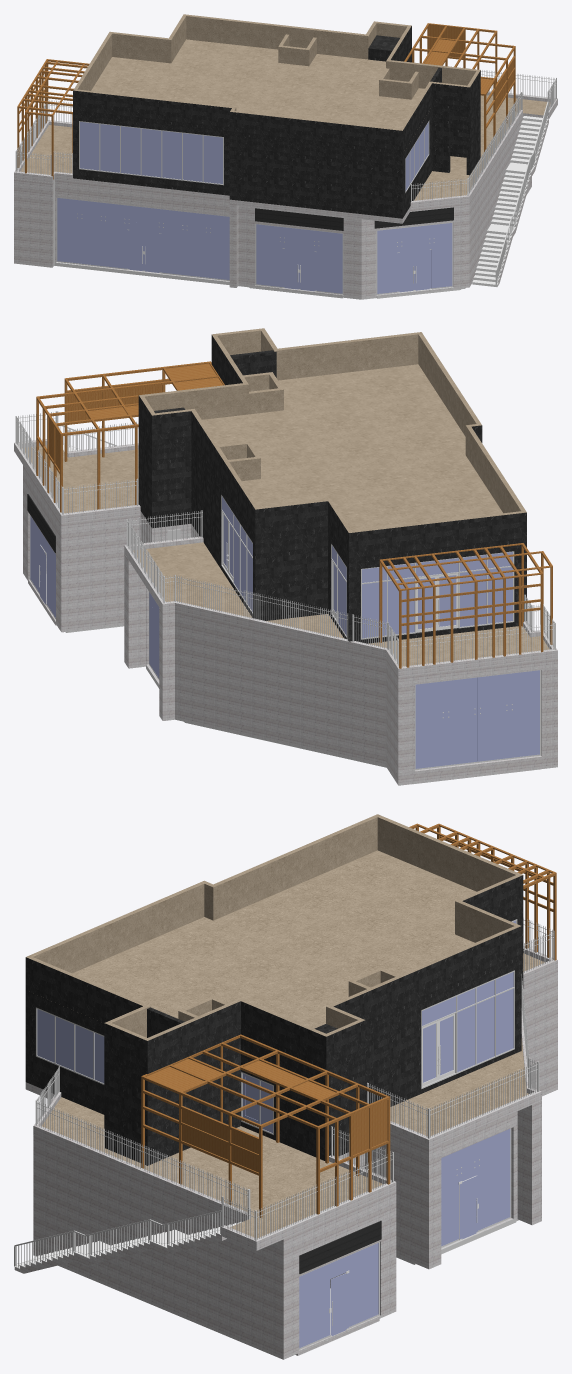
3 renders of one model, top to bottom at view 1: azimuth 30°, elevation 25°; view 2: azimuth 150°, elevation 25°; view 3: azimuth 270°, elevation 25°, orthographic. The views are drawn at different scales.
Visible parts, largest first — view 1: 21 2 [417679], Basic Wall Generic - 200mm Masonry [414677], 2 2 [347174], Basic Wall Generic - 200mm Masonry [433387], Basic Wall Generic - 200mm Masonry [433997], CAN-01 CAN-01 [347665], Basic Wall Generic - 200mm Masonry [433209], Basic Wall Generic - 200mm [384395], Basic Wall Generic - 200mm [376490], CAN1 CAN-01 [355957], Basic Wall Generic - 200mm Masonry [414536], Basic Wall Generic - 300mm [440573] (+63 smaller); view 2: 21 2 [417679], Basic Wall Generic - 300mm [375218], 2 2 [347174], CAN-01 CAN-01 [347665], CAN1 CAN-01 [355957], Basic Wall Generic - 300mm [375669], D.B D.B [377607], Basic Wall Generic - 200mm Masonry [434115], 22 2 [428422], Basic Wall Generic - 200mm Masonry [413980], Basic Wall Generic - 200mm Masonry [433543], D.B1 D.B [411193] (+41 smaller); view 3: 21 2 [417679], 2 2 [347174], CAN-01 CAN-01 [347665], D.B D.B [377607], Basic Wall Generic - 300mm [380016], Basic Wall Generic - 300mm [379828], Basic Wall Generic - 200mm Masonry [433997], Basic Wall Generic - 200mm Masonry [433209], Basic Wall Generic - 200mm Masonry [433387], 22 2 [428422], Basic Wall Generic - 300mm [377421], Basic Wall Generic - 300mm [394166] (+41 smaller).
Part boxes in pixels (box(x1,y1,x2,y2)): 21 2 [417679]: box(73, 39, 480, 157); Basic Wall Generic - 200mm Masonry [414677]: box(235, 139, 403, 218); 2 2 [347174]: box(14, 95, 557, 221); Basic Wall Generic - 200mm Masonry [433387]: box(233, 110, 399, 153); Basic Wall Generic - 200mm Masonry [433997]: box(183, 14, 365, 58); CAN-01 CAN-01 [347665]: box(404, 23, 515, 151); Basic Wall Generic - 200mm Masonry [433209]: box(73, 89, 232, 131); Basic Wall Generic - 200mm [384395]: box(55, 179, 229, 281); Basic Wall Generic - 200mm [376490]: box(17, 179, 53, 267); CAN1 CAN-01 [355957]: box(17, 59, 89, 179); Basic Wall Generic - 200mm Masonry [414536]: box(73, 117, 229, 195); Basic Wall Generic - 300mm [440573]: box(238, 205, 348, 297); 21 2 [417679]: box(138, 364, 526, 567); Basic Wall Generic - 300mm [375218]: box(175, 611, 385, 766); 2 2 [347174]: box(14, 445, 557, 677); CAN-01 CAN-01 [347665]: box(36, 361, 224, 512); CAN1 CAN-01 [355957]: box(379, 543, 552, 668); Basic Wall Generic - 300mm [375669]: box(72, 515, 140, 630); D.B D.B [377607]: box(23, 465, 548, 785); Basic Wall Generic - 200mm Masonry [434115]: box(352, 511, 522, 562); 22 2 [428422]: box(14, 439, 557, 672); Basic Wall Generic - 200mm Masonry [413980]: box(266, 535, 327, 620); Basic Wall Generic - 200mm Masonry [433543]: box(273, 332, 422, 380); D.B1 D.B [411193]: box(138, 429, 359, 641); 21 2 [417679]: box(25, 850, 523, 1075); 2 2 [347174]: box(25, 953, 557, 1250); CAN-01 CAN-01 [347665]: box(141, 1034, 390, 1217); D.B D.B [377607]: box(33, 1101, 541, 1359); Basic Wall Generic - 300mm [380016]: box(193, 1202, 274, 1355); Basic Wall Generic - 300mm [379828]: box(104, 1165, 182, 1317); Basic Wall Generic - 200mm Masonry [433997]: box(330, 924, 521, 1025); Basic Wall Generic - 200mm Masonry [433209]: box(214, 814, 380, 918); Basic Wall Generic - 200mm Masonry [433387]: box(29, 882, 204, 973); 22 2 [428422]: box(33, 946, 557, 1246); Basic Wall Generic - 300mm [377421]: box(42, 1139, 93, 1280); Basic Wall Generic - 300mm [394166]: box(289, 1193, 390, 1357).
Bounding box in the file's own units: 31.44 × 11.1 × 21.5.
8 materials, 5 textured.
